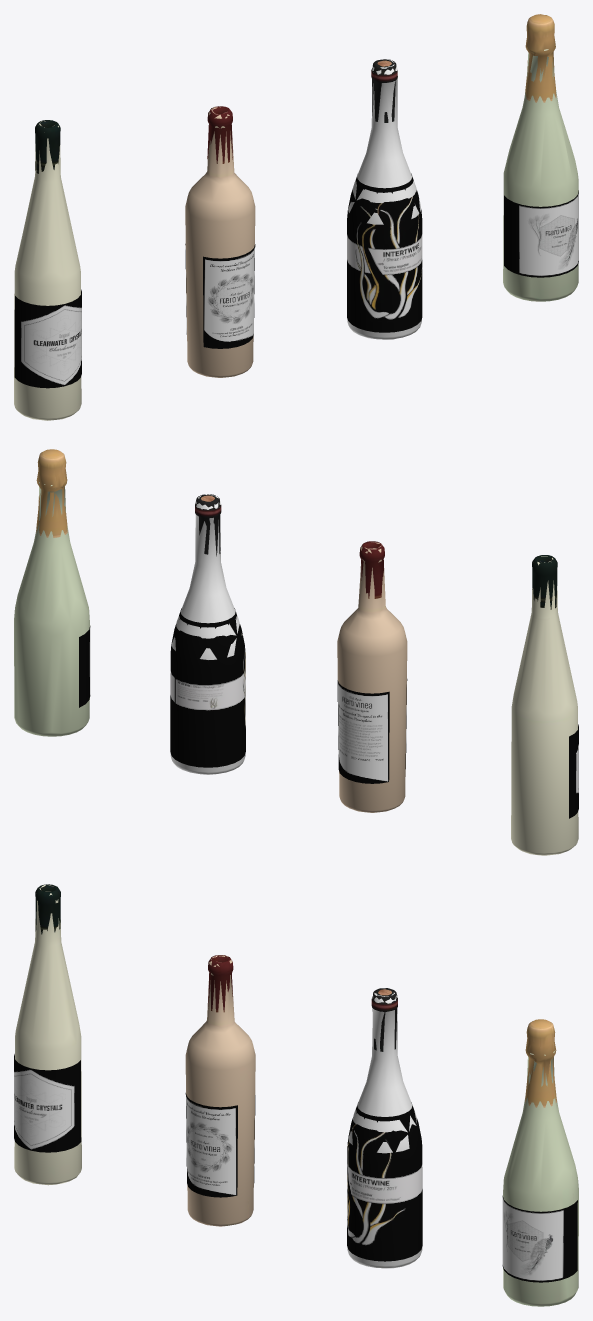
File: wine_bottles_01.glb
3 renders of one model, top to bottom at view 1: azimuth 30°, elevation 25°; view 2: azimuth 150°, elevation 25°; view 3: azimuth 330°, elevation 25°, orthographic.
Visible parts, largest first — view 1: wine_bottles_01_bordeaux, wine_bottles_01_burgundy, wine_bottles_01_alsace, wine_bottles_01_champagne; view 2: wine_bottles_01_bordeaux, wine_bottles_01_burgundy, wine_bottles_01_champagne, wine_bottles_01_alsace; view 3: wine_bottles_01_bordeaux, wine_bottles_01_burgundy, wine_bottles_01_alsace, wine_bottles_01_champagne.
Part boxes in pixels (x1,y1,x2,y2): wine_bottles_01_bordeaux: (14, 14, 578, 420); wine_bottles_01_burgundy: (347, 173, 422, 332); wine_bottles_01_alsace: (14, 289, 81, 388); wine_bottles_01_champagne: (504, 190, 578, 277); wine_bottles_01_bordeaux: (14, 449, 578, 855); wine_bottles_01_burgundy: (170, 608, 245, 767); wine_bottles_01_champagne: (79, 626, 90, 707); wine_bottles_01_alsace: (569, 724, 578, 818); wine_bottles_01_bordeaux: (14, 884, 578, 1306); wine_bottles_01_burgundy: (347, 1102, 422, 1261); wine_bottles_01_alsace: (14, 1054, 81, 1152); wine_bottles_01_champagne: (502, 1196, 577, 1282).
Bounding box in the file's own units: 0.6763 × 0.3314 × 0.0805.
9 materials, 6 textured.
